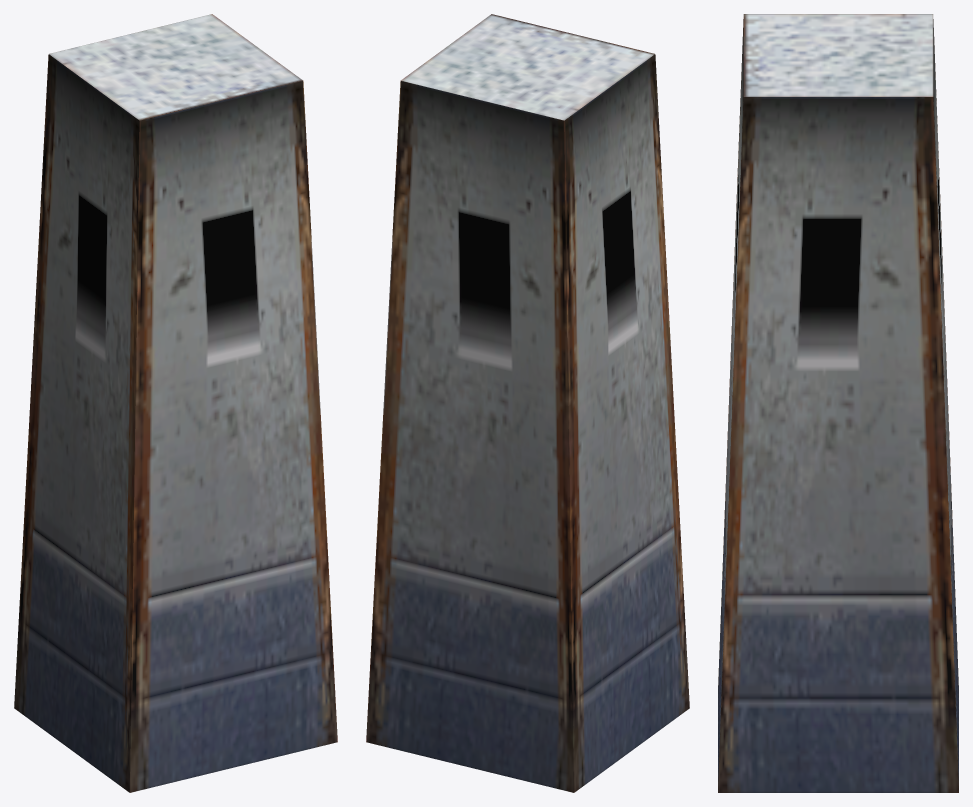
File: Civilian - Infrastructure - Generic Bridge Tower - Snow - CBBStpL01_s.glb
The picture shows the model from 3 angles, left to right: view 1: azimuth 30°, elevation 25°; view 2: azimuth 150°, elevation 25°; view 3: azimuth 270°, elevation 25°; orthographic projection. The views are drawn at different scales.
Visible parts, largest first — view 1: CBBSTPL01_S; view 2: CBBSTPL01_S; view 3: CBBSTPL01_S.
Boxes of the visible parts, x1,y1,x2,y2 form: CBBSTPL01_S: (14, 14, 337, 792); CBBSTPL01_S: (366, 14, 689, 792); CBBSTPL01_S: (718, 14, 958, 792).
Size of the model in its own units: 10.57 by 31.95 by 10.19.
Materials: 1 (1 with a texture image).
